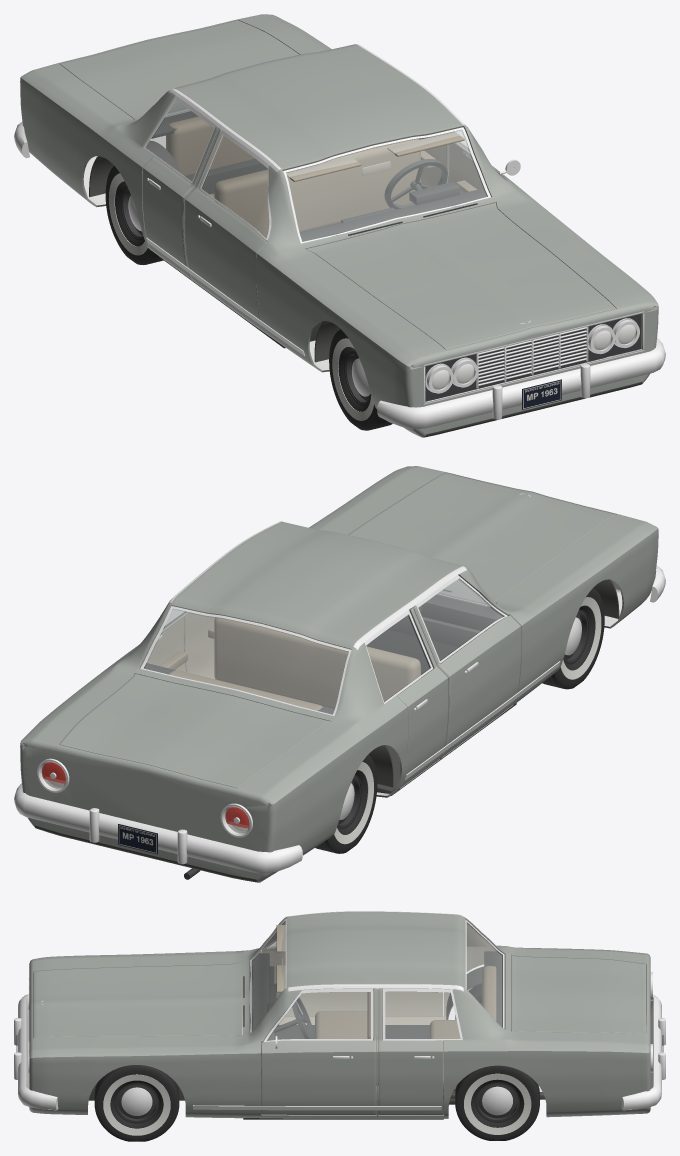
The model's file is SM_V01_Sedan_Base_Neutral.glb.
3 views of the same model, one above another, from view 1: azimuth 30°, elevation 25°; view 2: azimuth 150°, elevation 25°; view 3: azimuth 270°, elevation 25° (orthographic). The views are drawn at different scales.
Parts seen in each view (by area): view 1: BODY, HOOD, GLASS_WINDSHIELD, TRUNK, INT_SEAT_FRONT, DOOR_FR, BUMPER_FRONT, GRILLE_BARS, DOOR_RR, GLASS_DOOR_FR, GRILLE_BACK, WHEEL_FR (+18 smaller); view 2: BODY, TRUNK, HOOD, GLASS_REAR, INT_SEAT_FRONT, DOOR_FR, BUMPER_REAR, DOOR_RR, GLASS_DOOR_FR, INT_DASH, GLASS_DOOR_RR, WHEEL_FR (+14 smaller); view 3: BODY, HOOD, TRUNK, DOOR_FL, WHEEL_FL, WHEEL_RL, DOOR_RL, GLASS_DOOR_FL, GLASS_DOOR_RL, GLASS_REAR, INT_FLOOR, INT_SEAT_FRONT (+15 smaller).
Boxes of the visible parts, x1=… form: BODY: x1=20, y1=14, x2=658, y2=437; HOOD: x1=305, y1=202, x2=616, y2=350; GLASS_WINDSHIELD: x1=286, y1=130, x2=486, y2=241; TRUNK: x1=59, y1=20, x2=299, y2=119; INT_SEAT_FRONT: x1=214, y1=139, x2=420, y2=242; DOOR_FR: x1=184, y1=129, x2=267, y2=331; BUMPER_FRONT: x1=377, y1=337, x2=665, y2=429; GRILLE_BARS: x1=424, y1=311, x2=644, y2=404; DOOR_RR: x1=142, y1=126, x2=218, y2=278; GLASS_DOOR_FR: x1=202, y1=136, x2=268, y2=238; GRILLE_BACK: x1=425, y1=314, x2=641, y2=401; WHEEL_FR: x1=329, y1=329, x2=392, y2=430; BODY: x1=20, y1=466, x2=658, y2=882; TRUNK: x1=59, y1=673, x2=330, y2=788; HOOD: x1=349, y1=473, x2=615, y2=603; GLASS_REAR: x1=144, y1=609, x2=348, y2=714; INT_SEAT_FRONT: x1=214, y1=617, x2=420, y2=745; DOOR_FR: x1=414, y1=605, x2=521, y2=757; BUMPER_REAR: x1=14, y1=783, x2=302, y2=873; DOOR_RR: x1=397, y1=608, x2=448, y2=787; GLASS_DOOR_FR: x1=418, y1=579, x2=503, y2=660; INT_DASH: x1=388, y1=594, x2=504, y2=646; GLASS_DOOR_RR: x1=366, y1=615, x2=429, y2=701; WHEEL_FR: x1=542, y1=588, x2=604, y2=689; BODY: x1=29, y1=911, x2=650, y2=1118; HOOD: x1=34, y1=961, x2=242, y2=1037; TRUNK: x1=511, y1=955, x2=645, y2=1033; DOOR_FL: x1=261, y1=989, x2=376, y2=1114; WHEEL_FL: x1=94, y1=1065, x2=179, y2=1141; WHEEL_RL: x1=455, y1=1065, x2=539, y2=1140; DOOR_RL: x1=378, y1=989, x2=443, y2=1114; GLASS_DOOR_FL: x1=267, y1=992, x2=370, y2=1040; GLASS_DOOR_RL: x1=385, y1=992, x2=459, y2=1038; GLASS_REAR: x1=467, y1=924, x2=501, y2=1026; INT_FLOOR: x1=243, y1=951, x2=502, y2=1119; INT_SEAT_FRONT: x1=315, y1=988, x2=382, y2=1102.
Size of what is drawn, in the model's own units: 2.17 by 1.42 by 5.46.
15 materials, 1 textured.
